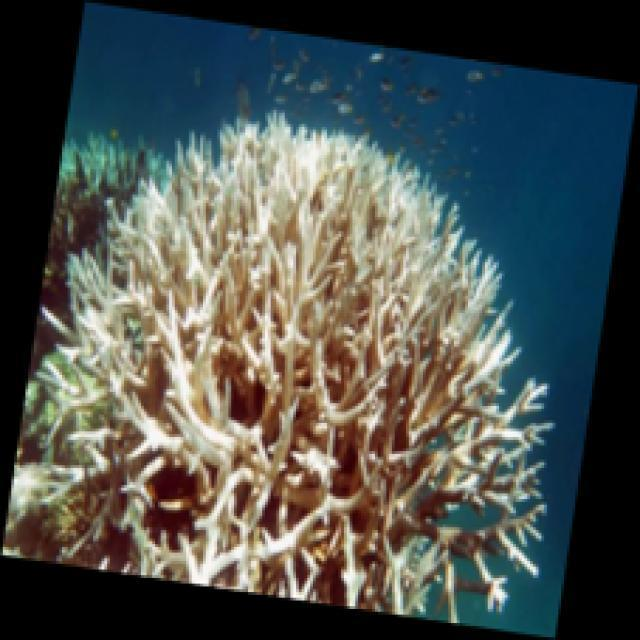Bleached: (40, 109, 557, 625)
